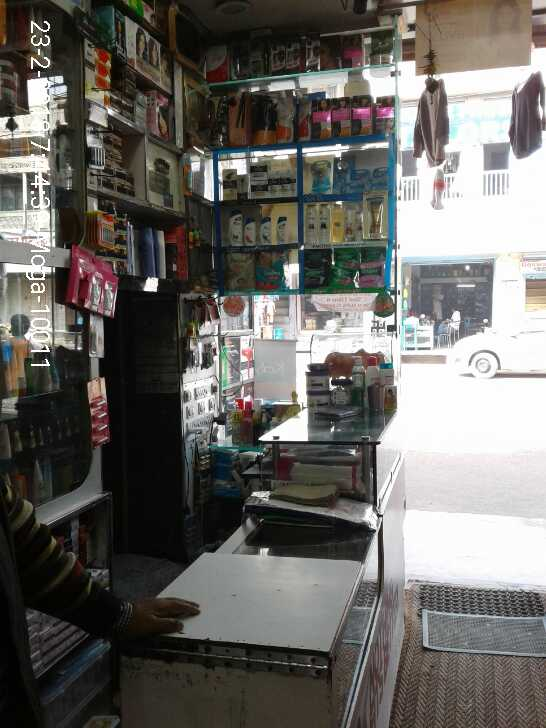venus: (333, 157, 350, 193), (312, 161, 329, 193), (372, 167, 389, 187), (351, 169, 367, 190)
